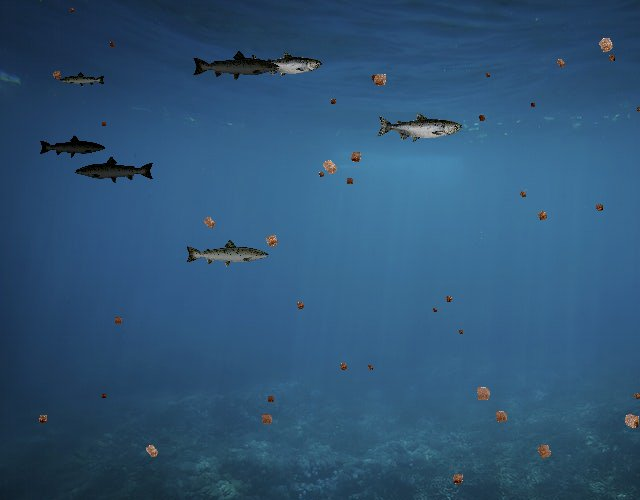Fish: (191, 49, 281, 82), (184, 238, 270, 269), (376, 112, 462, 143), (74, 156, 155, 185), (250, 52, 323, 78), (38, 135, 106, 159), (59, 72, 106, 89)
Pellet: (314, 152, 344, 182), (469, 379, 497, 407), (489, 404, 513, 428), (197, 210, 221, 234), (532, 205, 552, 225), (315, 168, 328, 181), (456, 326, 466, 336)
